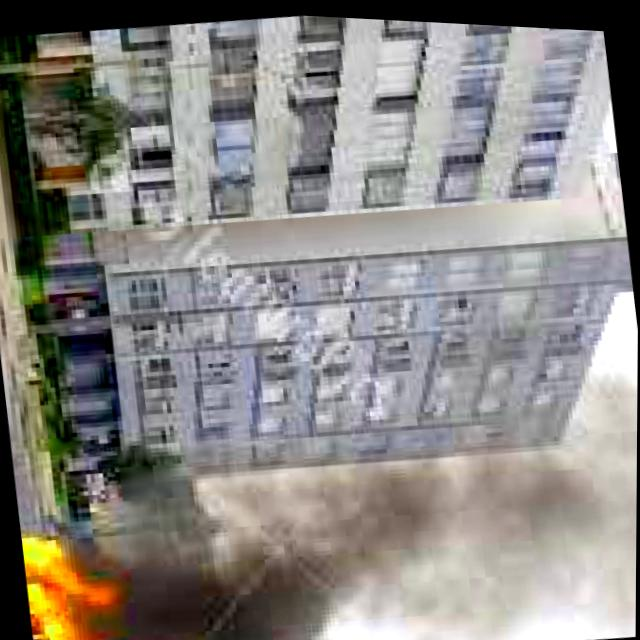smoke: (113, 300, 638, 640)
